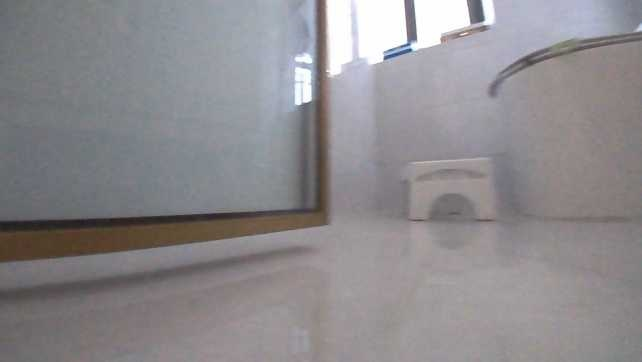plastic_stool: (404, 154, 497, 222)
toilet: (490, 18, 640, 221)
